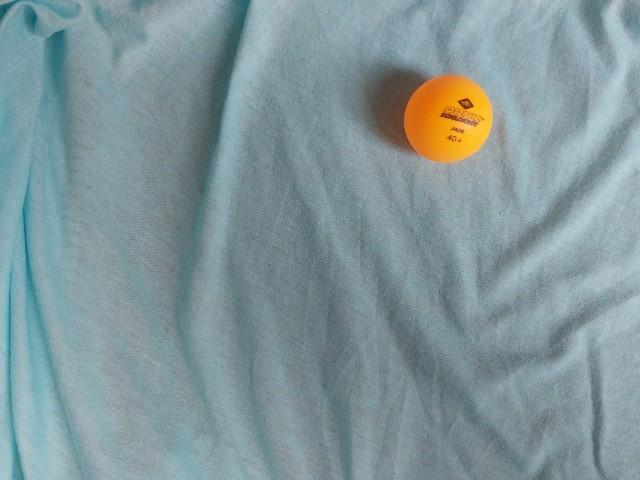oball: (398, 67, 502, 172)
